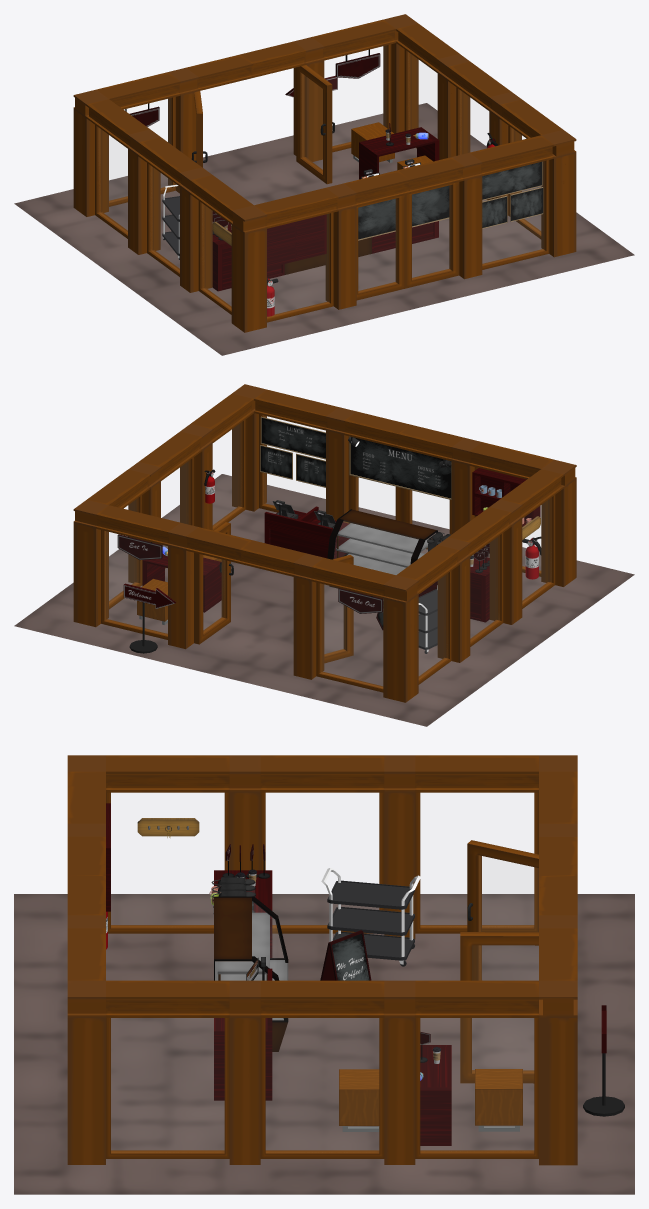
Rendered from coffee_shop.glb.
3 views of the same model, one above another, from view 1: azimuth 30°, elevation 25°; view 2: azimuth 150°, elevation 25°; view 3: azimuth 270°, elevation 25° (orthographic). The views are drawn at different scales.
Visible parts, largest first — view 1: MOD_Ground, MOD_GlassWallTop (×10), MOD_GlassWallFrame (×9), MOD_DoorFrame (×4), MOD_DoorTop (×4), MOD_GlassWallPillar9, MOD_GlassWallPillar8, MOD_GlassWallPillar3, MOD_GlassWallPillar11, MOD_GlassWallPillar5, MOD_GlassWallPillar10, MOD_GlassWallPillar4 (+21 smaller); view 2: MOD_Ground, MOD_GlassWallTop (×10), MOD_DoorTop (×4), MOD_GlassWallFrame (×6), MOD_FoodGlassShowcase, MOD_GlassWallPillar3, MOD_DoorFrame (×4), MOD_BlackBoard, MOD_GlassWallPillar, MOD_GlassWallPillar9, MOD_GlassWallPillar2, MOD_GlassWallPillar1 (+24 smaller); view 3: MOD_Ground, MOD_GlassWallTop (×10), MOD_GlassWallFrame (×6), MOD_GlassWallPillar, MOD_GlassWallPillar8, MOD_DoorTop (×4), MOD_GlassWallPillar6, MOD_GlassWallPillar7, MOD_FoodCart, MOD_FoodGlassShowcase, MOD_DoorFrame (×2), MOD_GlassWallPillar4 (+11 smaller).
Boxes of the visible parts, <box> form: MOD_Ground: <box>14,103,634,355</box>; MOD_GlassWallTop (×10): <box>86,19,562,228</box>; MOD_GlassWallFrame (×9): <box>95,44,549,322</box>; MOD_DoorFrame (×4): <box>194,65,459,300</box>; MOD_DoorTop (×4): <box>186,41,464,206</box>; MOD_GlassWallPillar9: <box>231,205,266,332</box>; MOD_GlassWallPillar8: <box>541,130,576,257</box>; MOD_GlassWallPillar3: <box>73,89,108,216</box>; MOD_GlassWallPillar11: <box>325,183,356,309</box>; MOD_GlassWallPillar5: <box>180,167,212,292</box>; MOD_GlassWallPillar10: <box>451,152,482,279</box>; MOD_GlassWallPillar4: <box>128,129,160,254</box>; MOD_Ground: <box>14,474,634,726</box>; MOD_GlassWallTop (×10): <box>87,389,563,598</box>; MOD_DoorTop (×4): <box>186,411,463,576</box>; MOD_GlassWallFrame (×6): <box>101,419,555,692</box>; MOD_FoodGlassShowcase: <box>327,509,437,588</box>; MOD_GlassWallPillar3: <box>383,575,418,702</box>; MOD_DoorFrame (×4): <box>194,436,451,663</box>; MOD_BlackBoard: <box>349,436,451,499</box>; MOD_GlassWallPillar: <box>73,500,108,627</box>; MOD_GlassWallPillar9: <box>541,459,576,586</box>; MOD_GlassWallPillar2: <box>293,553,324,679</box>; MOD_GlassWallPillar1: <box>168,523,198,649</box>; MOD_Ground: <box>14,894,634,1194</box>; MOD_GlassWallTop (×10): <box>67,755,577,1017</box>; MOD_GlassWallFrame (×6): <box>106,792,538,1158</box>; MOD_GlassWallPillar: <box>539,980,577,1165</box>; MOD_GlassWallPillar8: <box>67,980,105,1164</box>; MOD_DoorTop (×4): <box>67,836,577,915</box>; MOD_GlassWallPillar6: <box>384,980,415,1164</box>; MOD_GlassWallPillar7: <box>229,980,260,1164</box>; MOD_FoodCart: <box>321,868,420,966</box>; MOD_FoodGlassShowcase: <box>214,896,288,1051</box>; MOD_DoorFrame (×2): <box>460,840,538,1083</box>; MOD_GlassWallPillar4: <box>384,755,415,939</box>.
Bounding box in the file's own units: 1150 × 300 × 1004.
Materials: 28 (27 with a texture image).
